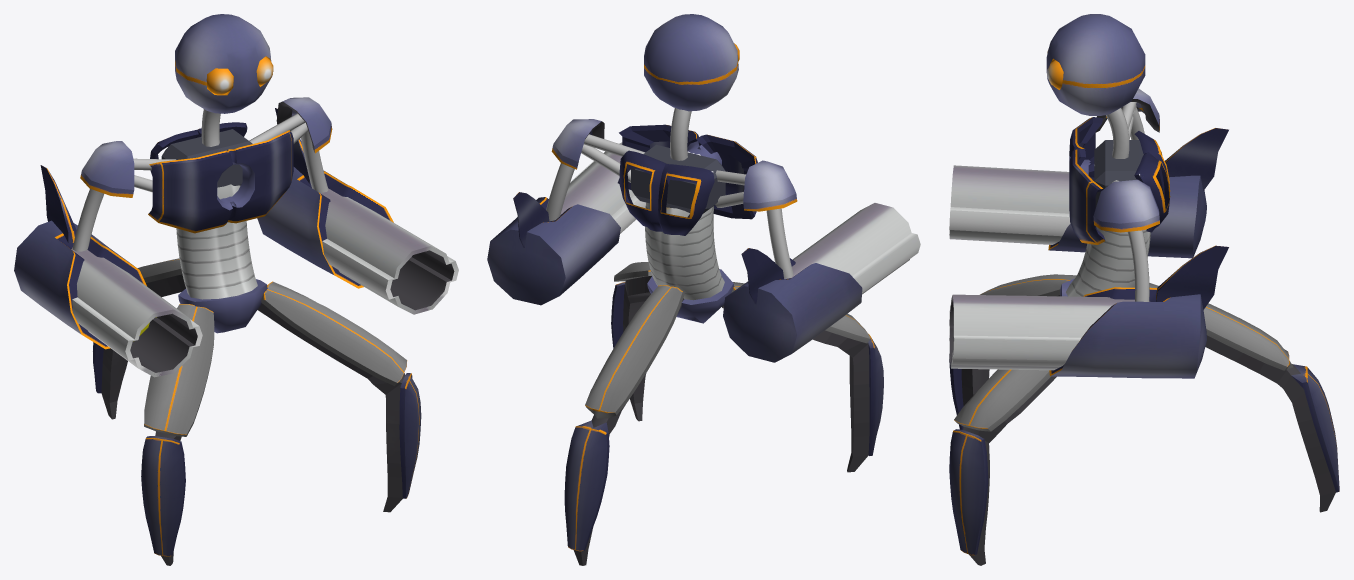
The model's file is Turret.FBX.
The picture shows the model from 3 angles, left to right: view 1: azimuth 30°, elevation 25°; view 2: azimuth 150°, elevation 25°; view 3: azimuth 270°, elevation 25°; orthographic projection. The views are drawn at different scales.
Visible parts, largest first — view 1: Cylinder004, Plane002, Box007, Box008; view 2: Cylinder004, Plane002, Box008, Box007; view 3: Cylinder004, Plane002, Box007, Box008.
Part boxes in pixels (<box>): Cylinder004: <box>14,97,458,377</box>; Plane002: <box>72,14,328,333</box>; Box007: <box>141,281,421,565</box>; Box008: <box>93,258,185,419</box>; Cylinder004: <box>487,119,920,362</box>; Plane002: <box>546,14,793,323</box>; Box008: <box>564,285,684,565</box>; Box007: <box>611,262,883,472</box>; Cylinder004: <box>949,88,1228,378</box>; Plane002: <box>1046,14,1170,301</box>; Box007: <box>949,274,1076,565</box>; Box008: <box>1149,283,1339,512</box>.
Size of the model in its own units: 127 by 175 by 126.
Materials: 3 (3 with a texture image).
